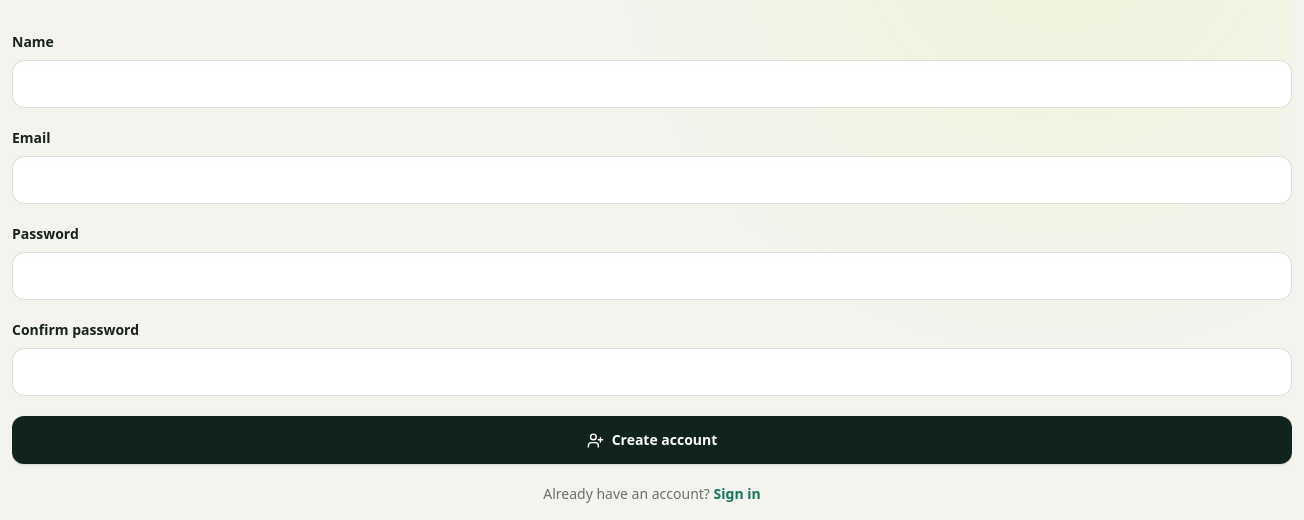
self-service registration › sends verification and does not sign the account in
Type "Test User" into the field labelled "Name". click: (652, 84)
box: [12,60,1292,108]
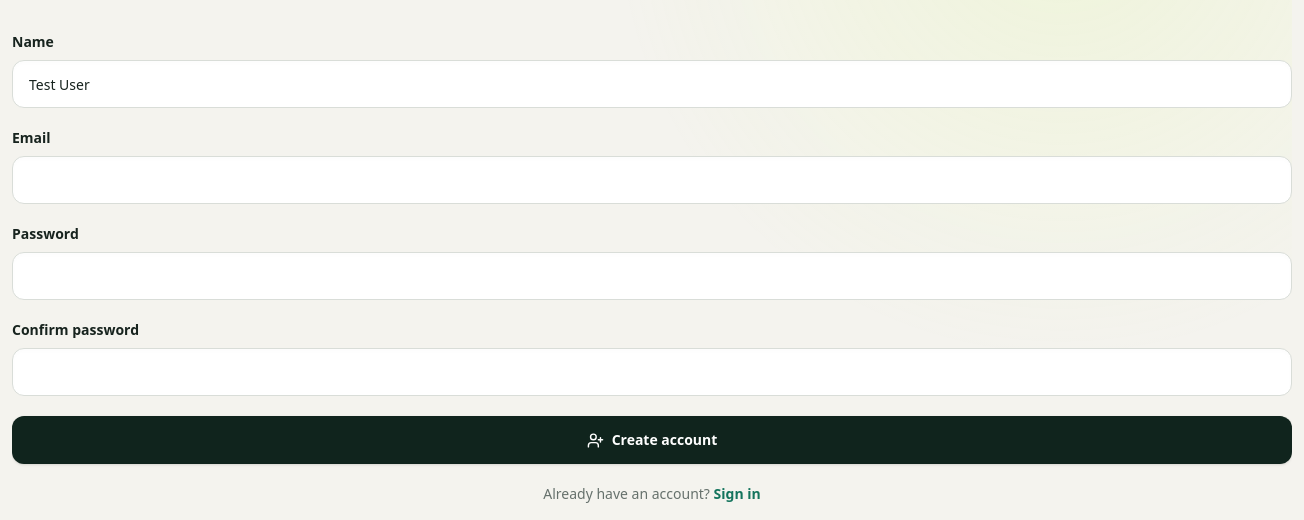
Type "test@example.test" into the field labelled "Email". click: (652, 180)
box: [12,156,1292,204]
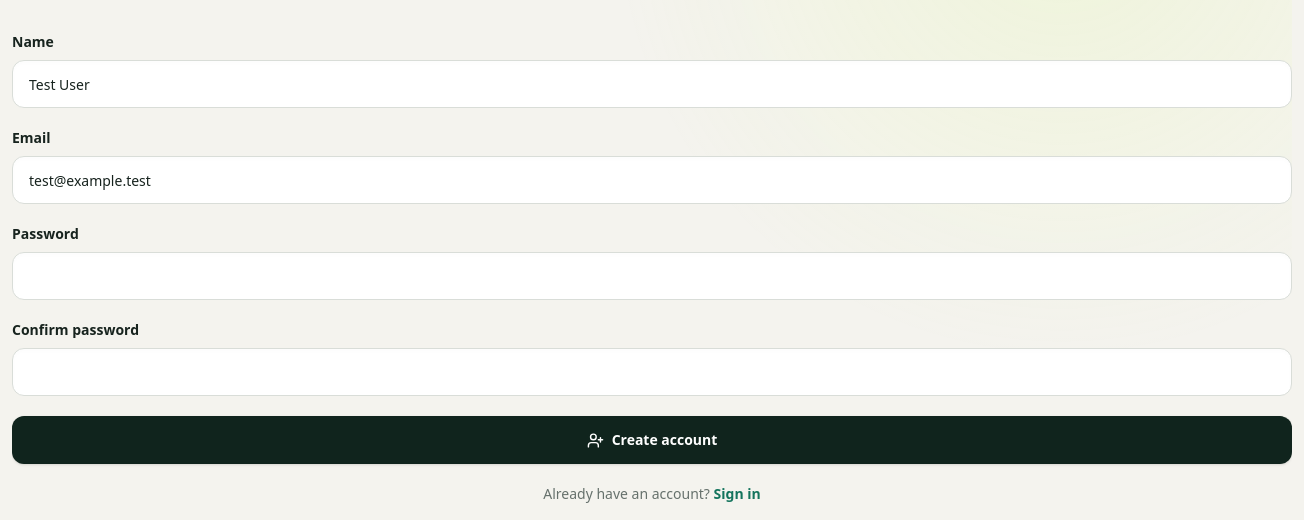
Type "password-2026" into the password field labelled "Password". click: (652, 276)
box: [12,252,1292,300]
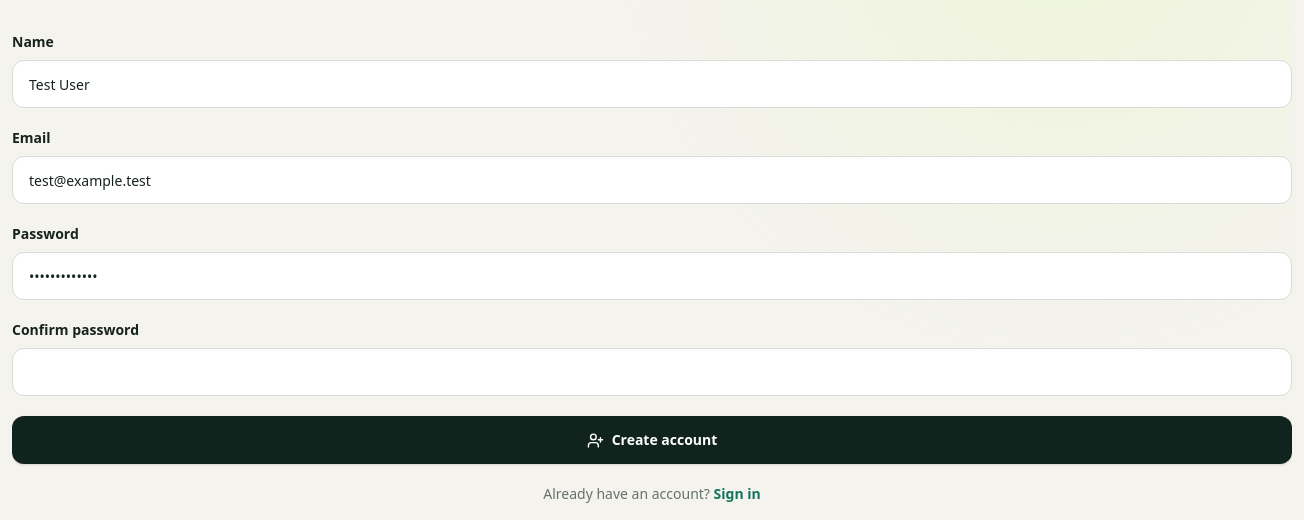
Type "password-2026" into the password field labelled "Confirm password". click: (652, 372)
box: [12,348,1292,396]
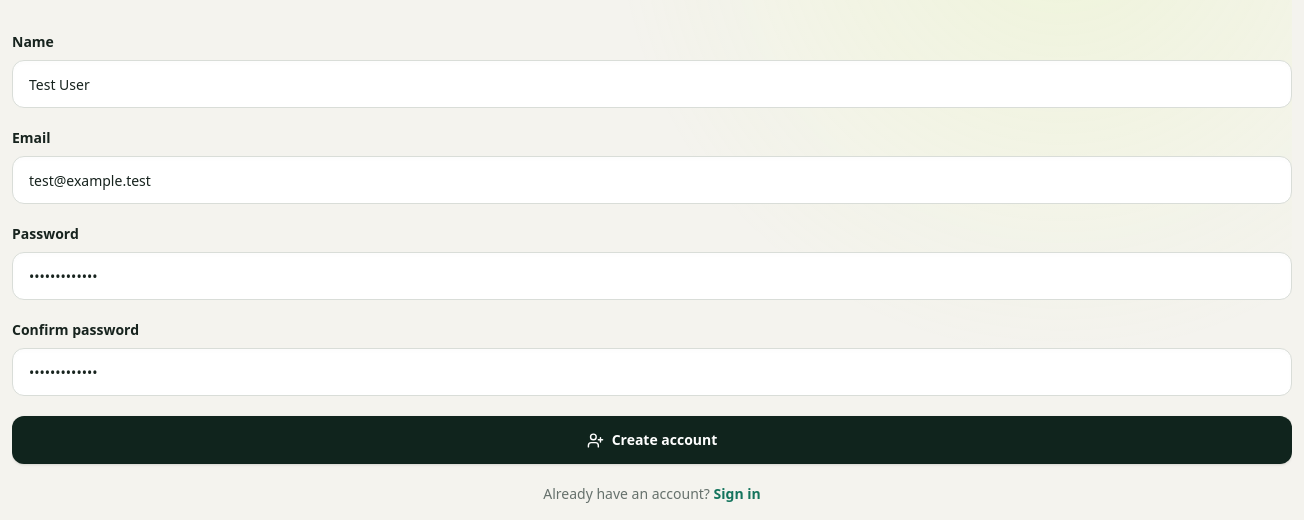
Click the button "Create account". click: (652, 440)
box: [12,416,1292,464]
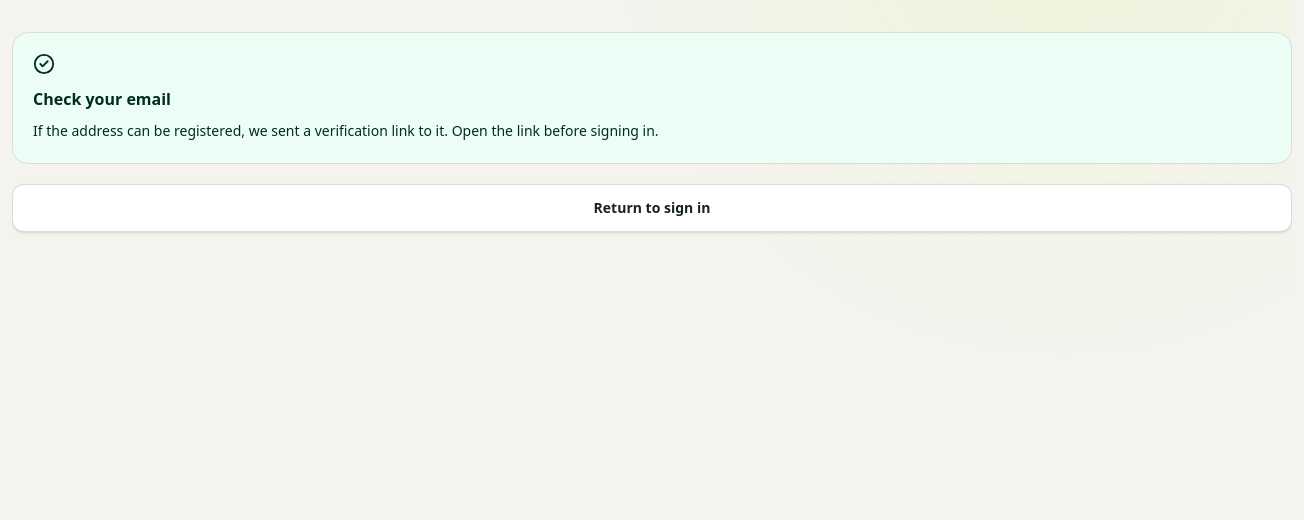
expect the heading "Check your email" is shown: met, box [33,88,171,110]
expect the text "open the link before signing in" is shown: met, box [33,121,659,140]
